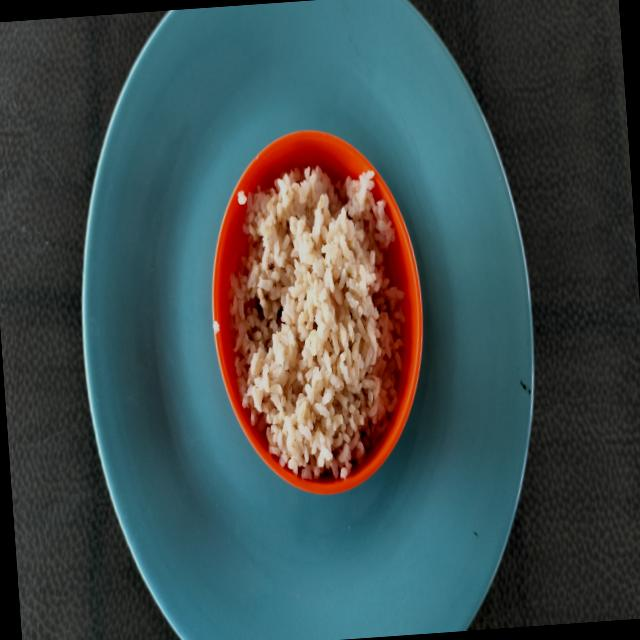brown-rice: (228, 166, 404, 480)
